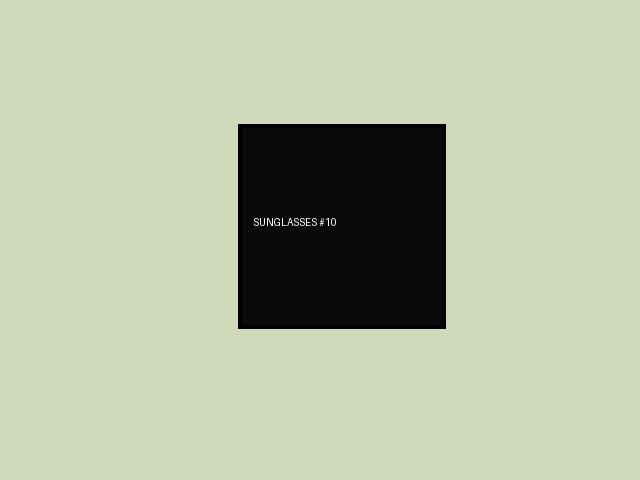sunglasses: (238, 124, 445, 328)
